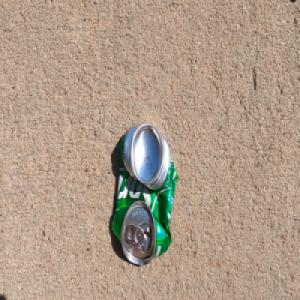SodaCan: (110, 121, 178, 267)
